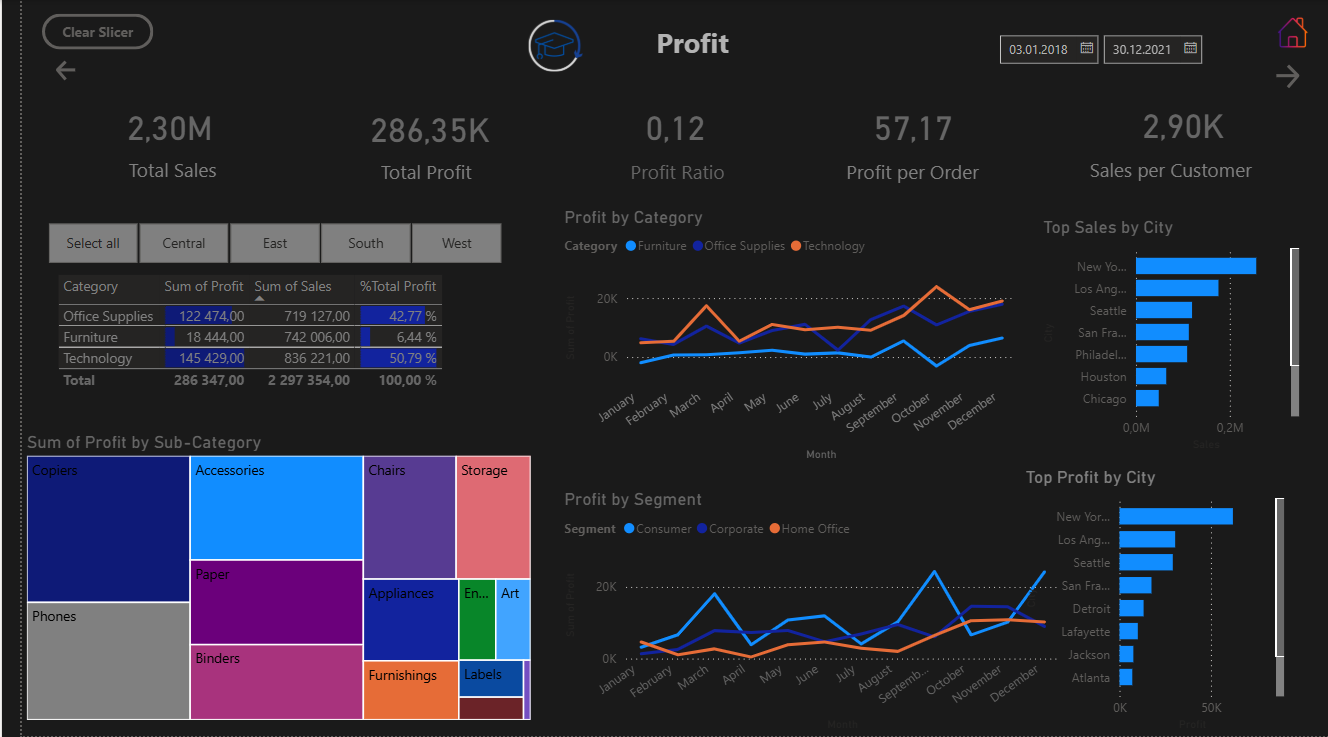

What the dashboard file says about the page in this screenshot:
{"tool":"powerbi","page":{"name":"Profit Report","canvas":[1280,720],"ordinal":2},"visuals":[{"type":"image","box":[475.7,14.7,92.9,59.9],"z":0},{"type":"textbox","box":[539.3,18.3,233.6,47.7],"z":1000},{"type":"slicer","fields":{"Values":["Calendar.Date"]},"box":[944,24.5,223.8,57.5],"z":2000},{"type":"card","fields":{"Values":["Summary.Total Sales"]},"box":[74.1,96.1,140,52.1],"z":3000},{"type":"card","fields":{"Values":["Summary.SalesPerCustomer"]},"box":[1054.1,95.4,163.9,51.4],"z":4000},{"type":"card","fields":{"Values":["Summary.Total Profit"]},"box":[322.8,99,152.9,51.4],"z":5000},{"type":"card","fields":{"Values":["Summary.Profit ratio"]},"box":[557.1,96.1,163.3,52.1],"z":6000},{"type":"card","fields":{"Values":["Summary.ProfitPerOrder"]},"box":[786.3,96.1,170.2,52.1],"z":7000},{"type":"lineChart","title":"Profit by Segment","fields":{"Series":["Sample - Superstore_Orders.Segment"],"Category":["Calendar.Date.Variation.Date Hierarchy.Month"],"Y":["Sum(Sample - Superstore_Orders.Profit)"]},"box":[525.8,478.1,494,242.1],"z":8000},{"type":"lineChart","title":"Profit by Category","fields":{"Category":["Calendar.Date.Variation.Date Hierarchy.Month"],"Series":["Sample - Superstore_Orders.Category"],"Y":["Sum(Sample - Superstore_Orders.Profit)"]},"box":[525.8,201.8,451.2,254.3],"z":9000},{"type":"textbox","box":[74.1,148.2,145.5,42.5],"z":10000},{"type":"textbox","box":[322.8,150.4,145.5,42.8],"z":11000},{"type":"textbox","box":[568.1,150.9,145.5,42.5],"z":12000},{"type":"textbox","box":[798.6,150.9,145.5,42.5],"z":13000},{"type":"textbox","box":[1032.1,148,183.4,42.8],"z":14000},{"type":"clusteredBarChart","title":"Top Profit by City","fields":{"Category":["Sample - Superstore_Orders.City"],"Y":["Sum(Sample - Superstore_Orders.Profit)"]},"box":[977,456.1,262.9,264.1],"z":15000},{"type":"treemap","fields":{"Group":["Sample - Superstore_Orders.Sub-Category"],"Values":["Sum(Sample - Superstore_Orders.Profit)"]},"box":[0,421.9,502.6,287.4],"z":16000},{"type":"tableEx","fields":{"Values":["Sample - Superstore_Orders.Category","Sum(Sample - Superstore_Orders.Profit)","Sum(Sample - Superstore_Orders.Sales)","Summary.%Total Profit"]},"box":[29.3,264.1,392.5,126],"z":17000},{"type":"slicer","fields":{"Values":["Sample - Superstore_Orders.Region"]},"box":[0,211.6,492.8,52.6],"z":18000},{"type":"actionButton","box":[19.6,14,109,34.9],"z":19000},{"type":"image","box":[1217.9,9.8,50.1,44],"z":20000},{"type":"clusteredBarChart","title":"Top Sales by City","fields":{"Y":["Sum(Sample - Superstore_Orders.Sales)"],"Category":["Sample - Superstore_Orders.City"]},"box":[994.2,211.6,260.5,234.8],"z":21000},{"type":"actionButton","box":[1221.3,58.7,47.5,32.1],"z":22000},{"type":"actionButton","box":[29.3,54.5,44.7,27.9],"z":23000}]}

Visuals, with their boxes in screenshot pixels (x1, y1, x2, y2), scaled from the page's 1280x720 canvas onto the 1328x737 screenshot:
image: 494,15,590,76
textbox: 560,19,802,68
slicer - Calendar.Date: 979,25,1212,84
card - Summary.Total Sales: 77,98,222,152
card - Summary.SalesPerCustomer: 1094,98,1264,150
card - Summary.Total Profit: 335,101,494,154
card - Summary.Profit ratio: 578,98,747,152
card - Summary.ProfitPerOrder: 816,98,992,152
"Profit by Segment" lineChart: 546,489,1058,736
"Profit by Category" lineChart: 546,207,1014,467
textbox: 77,152,228,195
textbox: 335,154,486,198
textbox: 589,154,740,198
textbox: 829,154,980,198
textbox: 1071,151,1261,195
"Top Profit by City" clusteredBarChart: 1014,467,1286,736
treemap - Sample - Superstore_Orders.Sub-Category x Sum(Sample - Superstore_Orders.Profit): 0,432,521,726
tableEx - Sample - Superstore_Orders.Category x Sum(Sample - Superstore_Orders.Profit): 30,270,438,399
slicer - Sample - Superstore_Orders.Region: 0,217,511,270
actionButton: 20,14,133,50
image: 1264,10,1316,55
"Top Sales by City" clusteredBarChart: 1031,217,1302,457
actionButton: 1267,60,1316,93
actionButton: 30,56,77,84
